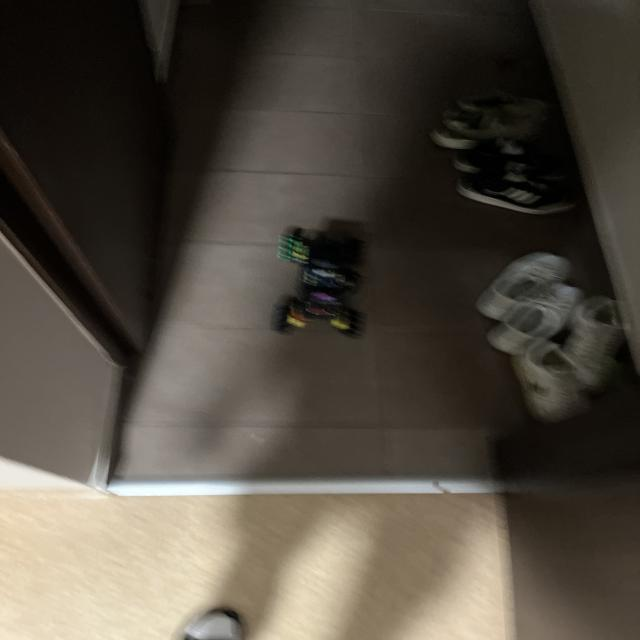robot: (274, 228, 364, 335)
